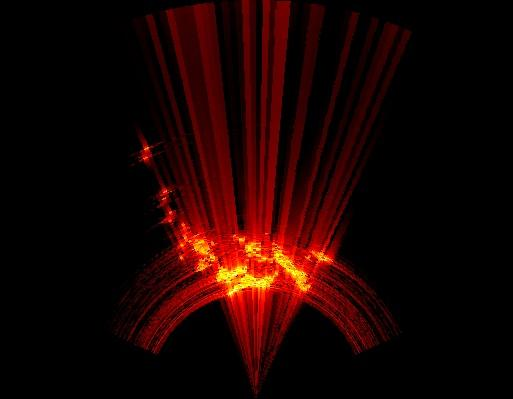shipwreck: (180, 224, 310, 295), (307, 252, 331, 261)
